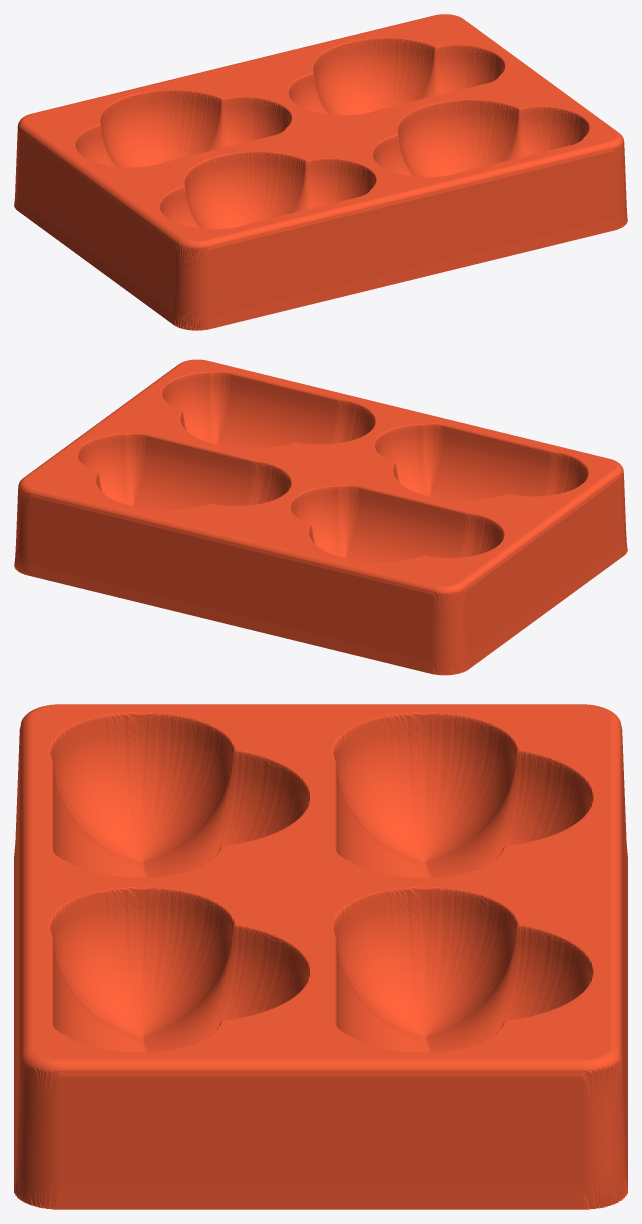
The model's file is mold.glb.
The picture shows the model from 3 angles, top to bottom: view 1: azimuth 30°, elevation 25°; view 2: azimuth 150°, elevation 25°; view 3: azimuth 270°, elevation 25°; orthographic projection. The views are drawn at different scales.
Parts seen in each view (by area): view 1: geometry_0; view 2: geometry_0; view 3: geometry_0.
Boxes of the visible parts, <box> form: geometry_0: <box>14,14,627,330</box>; geometry_0: <box>14,359,627,675</box>; geometry_0: <box>14,704,627,1209</box>.
Bounding box in the file's own units: 0.1721 × 0.031 × 0.1209.
